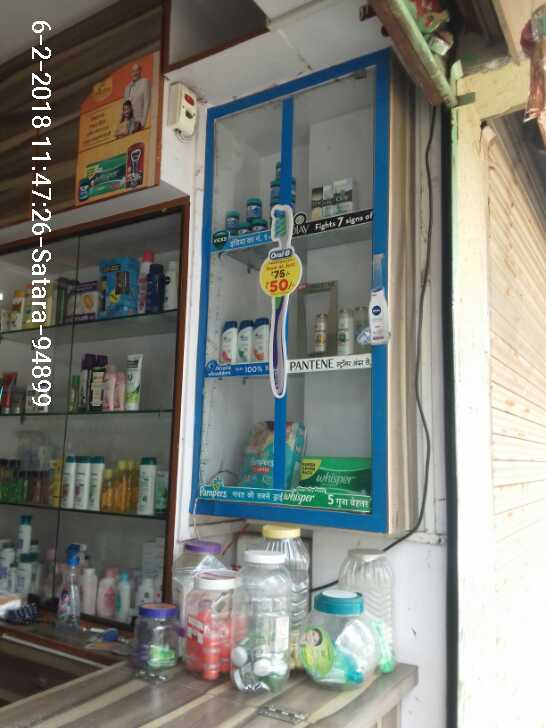vicks: (223, 158, 288, 243)
